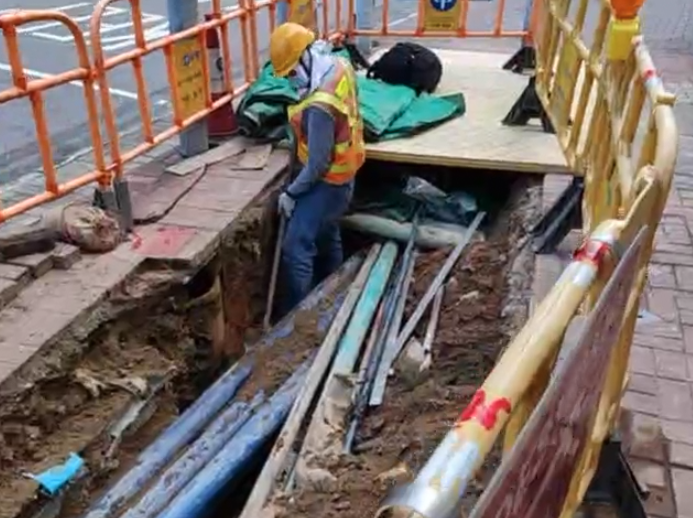Hard Hat: (267, 22, 318, 82)
Person: (269, 24, 368, 305)
Vest: (296, 65, 369, 187)
